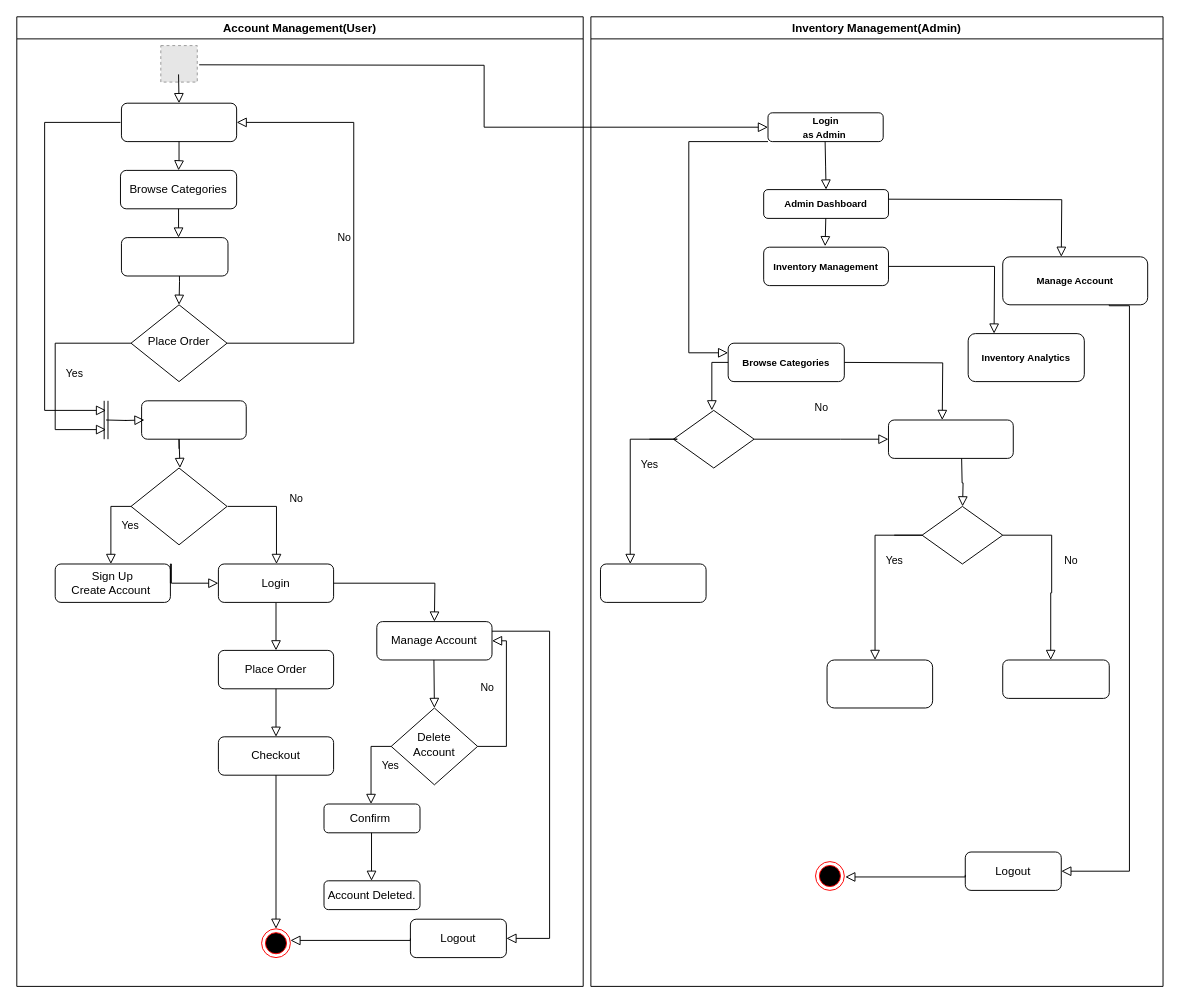
Image size: 1180x1003. Some labels were removed from this diagram. Grey dashed boxes stand in for pictures. Here are the shapes that lost their labels. From the top down, the centre of each, then its label:
(x=178, y=122): Home Page
(x=174, y=256): View Products
(x=193, y=419): Login/Sign Up As User
(x=713, y=438): Update Categories
(x=950, y=438): Browse Products by Category
(x=178, y=506): If Account Doesn't Exists
(x=962, y=534): Update Products
(x=653, y=582): Update / Delete /Add Categories
(x=879, y=683): Update/Delete/Add Products
(x=1055, y=678): View all Products
